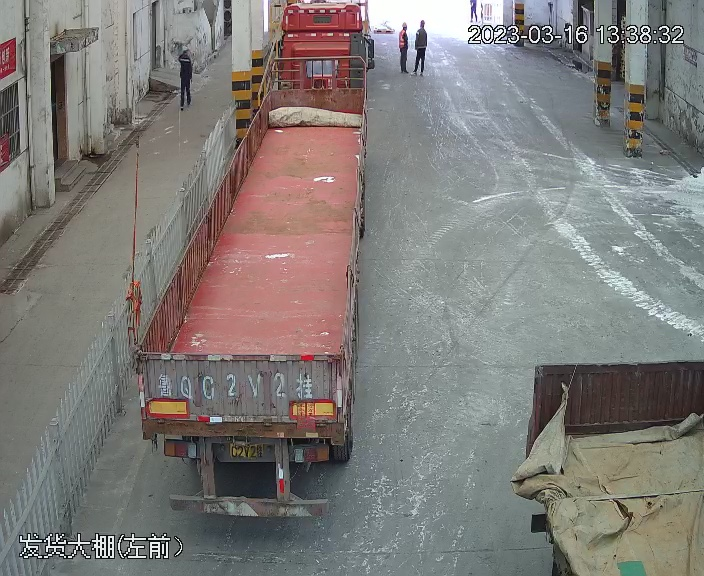head: (417, 19, 427, 36), (398, 21, 408, 35)
helmet: (182, 45, 190, 52), (401, 21, 408, 28), (420, 19, 426, 24)
people: (175, 43, 196, 109), (413, 19, 428, 73), (396, 22, 411, 74), (178, 45, 193, 66)
truck: (113, 5, 376, 526), (510, 348, 704, 576)
